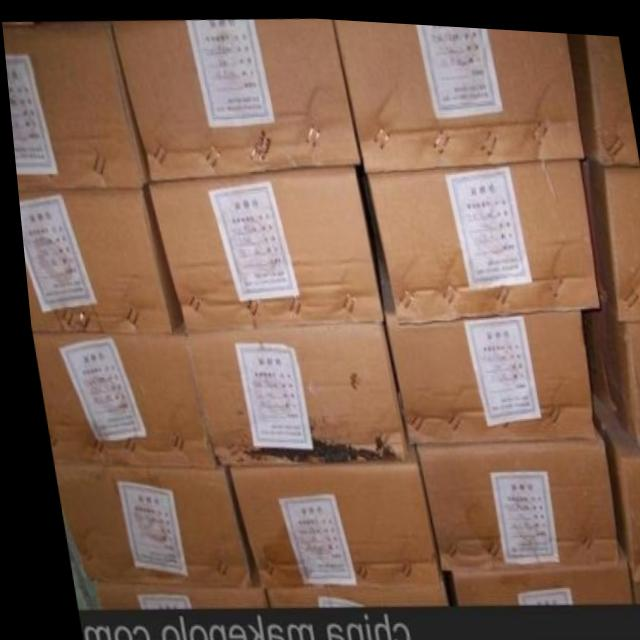box: (365, 209, 588, 442), (112, 15, 359, 178), (364, 152, 594, 321), (332, 15, 579, 170), (145, 167, 378, 330), (177, 312, 399, 462), (219, 441, 430, 584), (409, 423, 609, 566), (27, 319, 207, 465), (15, 181, 177, 331), (46, 461, 244, 583), (2, 22, 145, 189), (586, 386, 640, 573), (566, 26, 638, 161), (440, 545, 624, 597), (582, 154, 640, 315), (578, 299, 640, 446), (253, 574, 437, 604), (83, 584, 255, 611), (618, 551, 640, 594)
